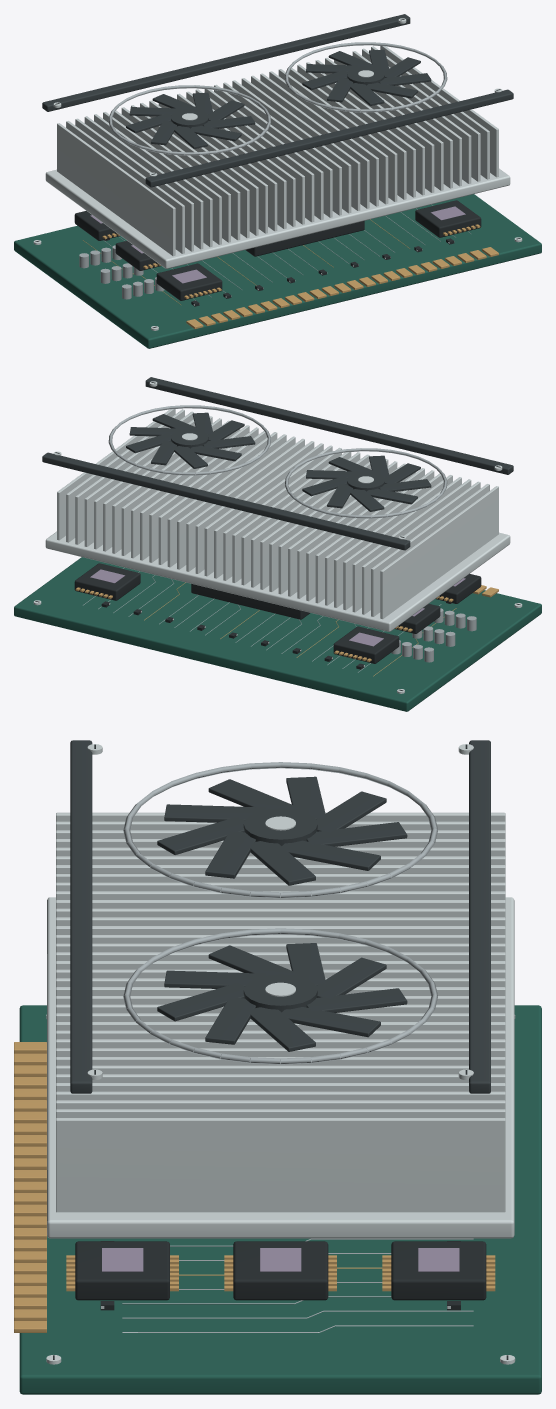
Rendered from accelerator.glb.
3 views of the same model, one above another, from view 1: azimuth 30°, elevation 25°; view 2: azimuth 150°, elevation 25°; view 3: azimuth 270°, elevation 25° (orthographic). The views are drawn at different scales.
Visible parts, largest first — view 1: GEO-heatsink-surface, GEO-pcb-surface, GEO-fan-surface, GEO-vram-surface, GEO-compute-surface; view 2: GEO-heatsink-surface, GEO-pcb-surface, GEO-fan-surface, GEO-vram-surface, GEO-compute-surface; view 3: GEO-heatsink-surface, GEO-pcb-surface, GEO-fan-surface, GEO-vram-surface.
Part boxes in pixels (x1,y1,x2,y2): GEO-heatsink-surface: [45, 46, 510, 268]; GEO-pcb-surface: [14, 194, 541, 348]; GEO-fan-surface: [42, 14, 513, 187]; GEO-vram-surface: [74, 200, 481, 300]; GEO-compute-surface: [246, 221, 364, 256]; GEO-heatsink-surface: [45, 409, 510, 631]; GEO-pcb-surface: [14, 557, 541, 711]; GEO-fan-surface: [42, 377, 513, 550]; GEO-vram-surface: [74, 563, 481, 663]; GEO-compute-surface: [191, 584, 309, 619]; GEO-heatsink-surface: [47, 812, 514, 1238]; GEO-pcb-surface: [14, 1005, 541, 1394]; GEO-fan-surface: [70, 740, 490, 1093]; GEO-vram-surface: [66, 1241, 495, 1300].
Size of the model in its own units: 6.4 by 2.44 by 3.84.
